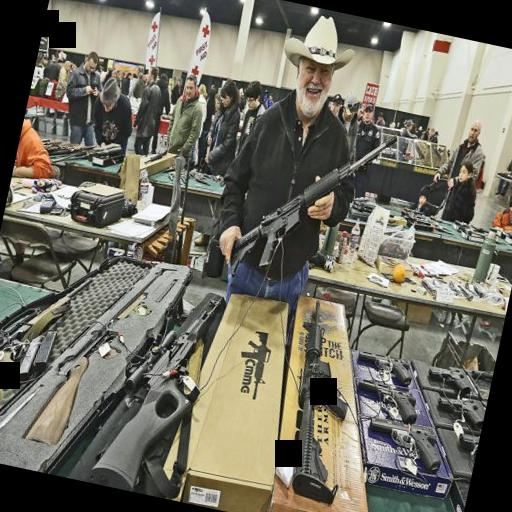Handgun: (357, 414, 447, 478), (348, 374, 422, 426), (350, 340, 418, 386), (431, 390, 485, 430), (422, 360, 476, 398)
